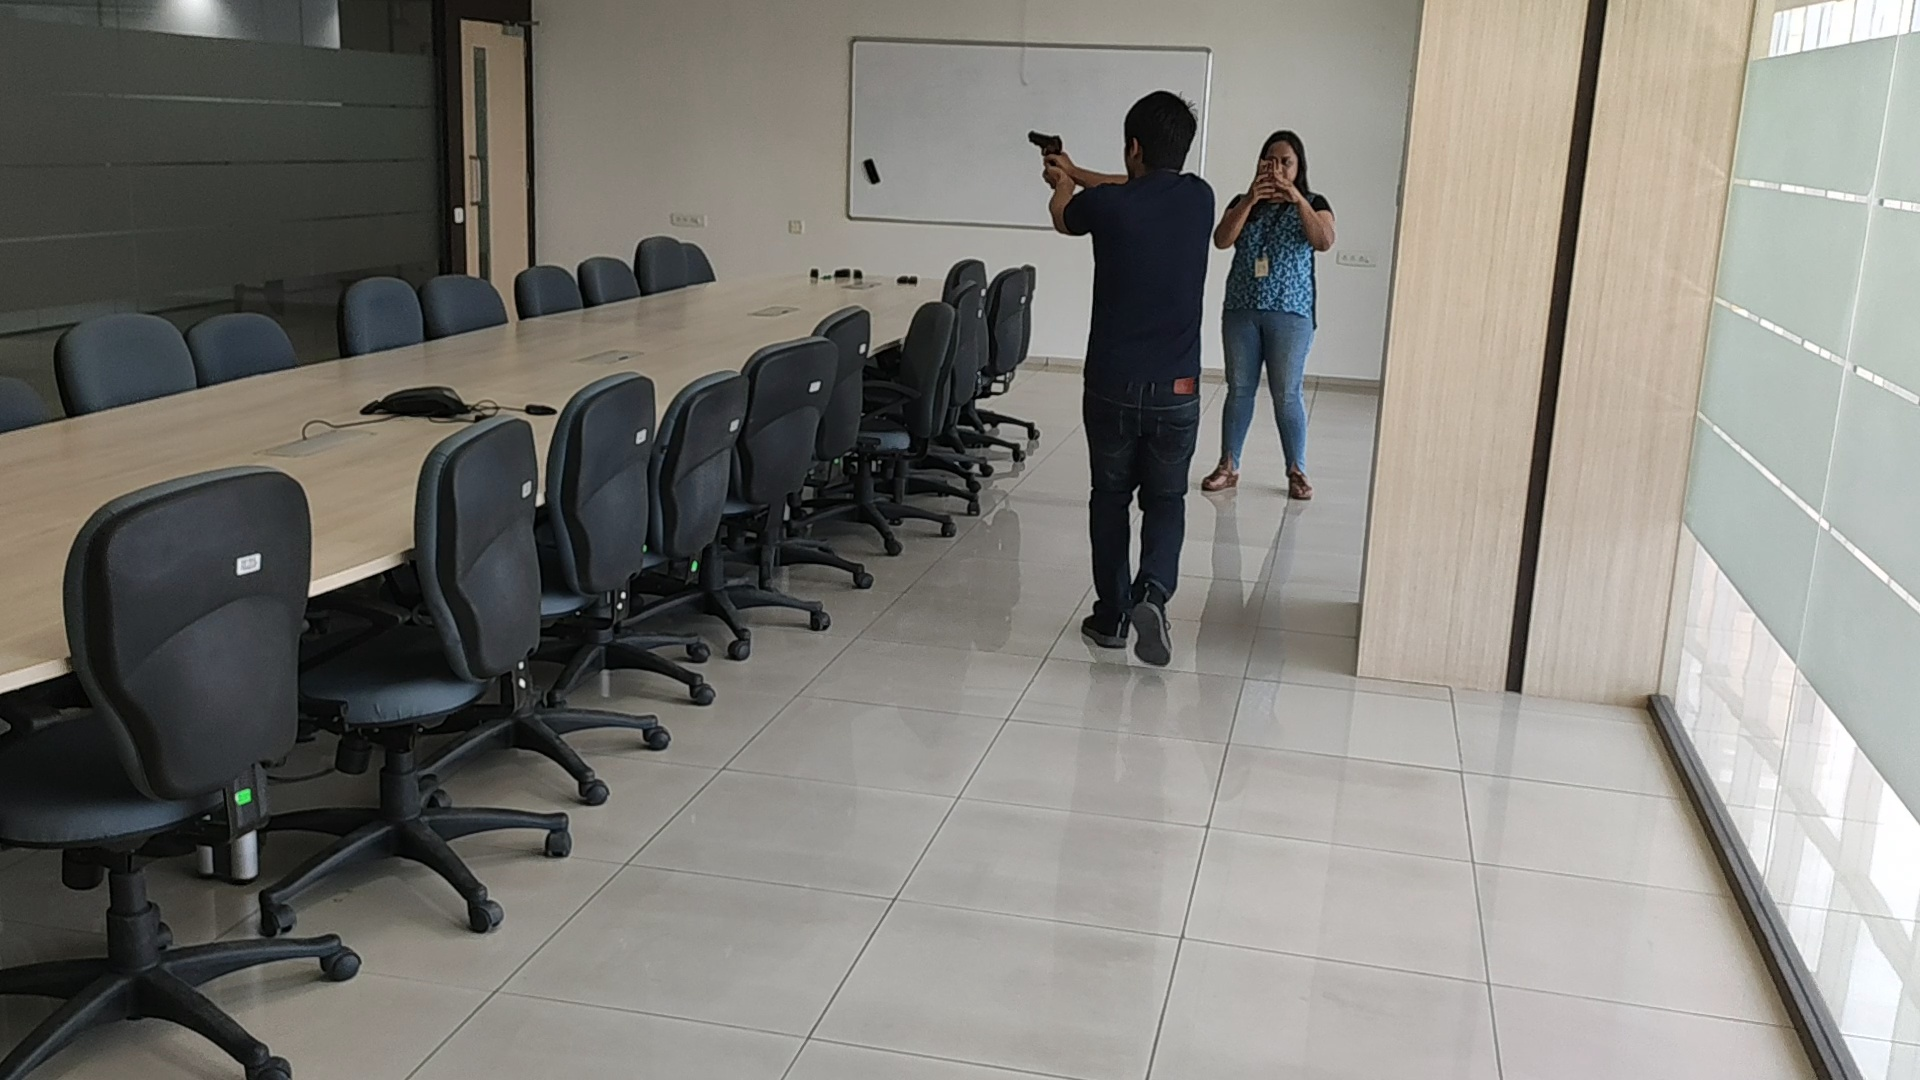gun: (1025, 131, 1067, 157)
